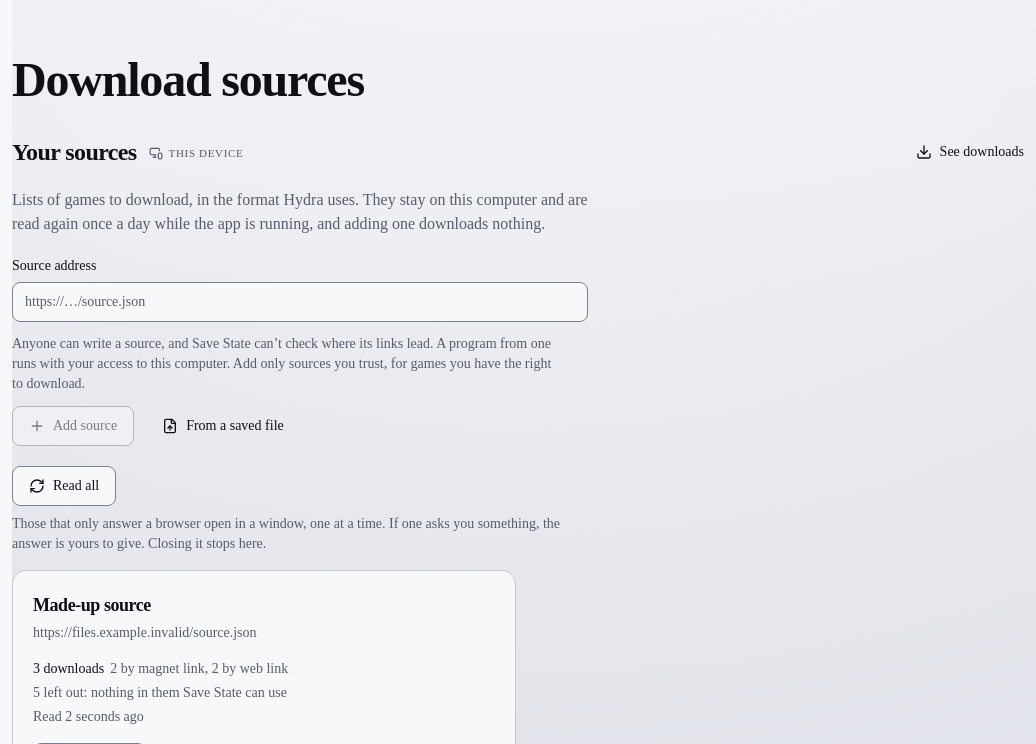
Test: download sources › says how it ended: {"read":3,"failed":2,"stopped":false}
The width and height of the screenshot is (1036, 744).
Click the button "Read all". click: (64, 486)
box: x1=12 y1=466 x2=116 y2=506
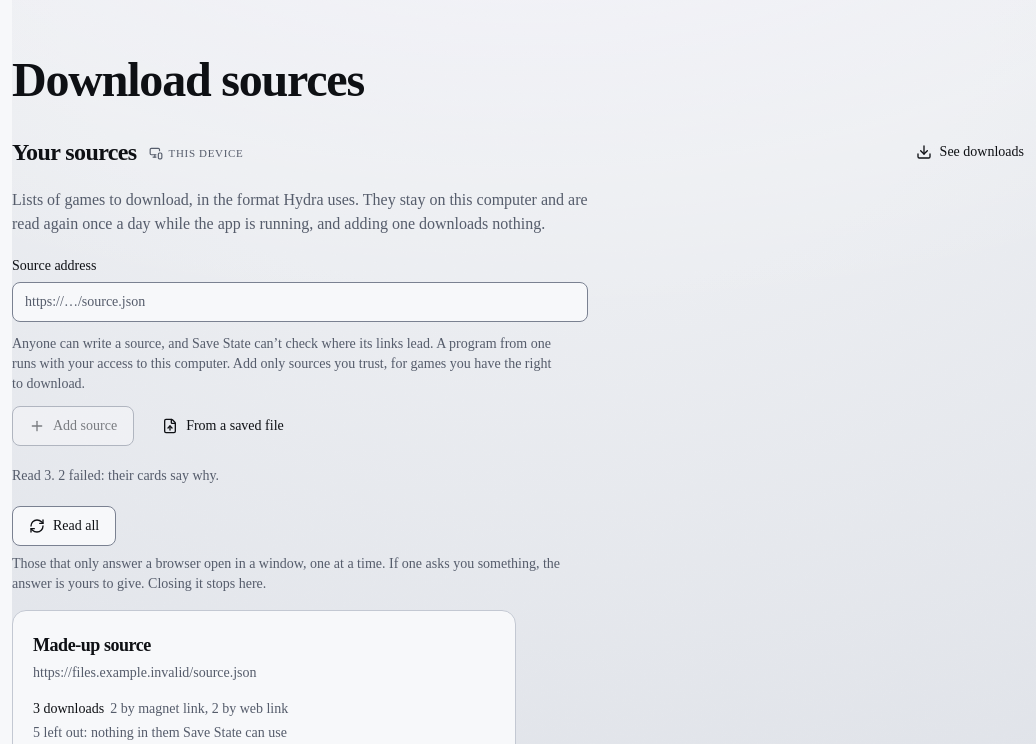
Expected: the message reads "Read 3. 2 failed: their cards say why.", x1=12 y1=468 x2=219 y2=483
